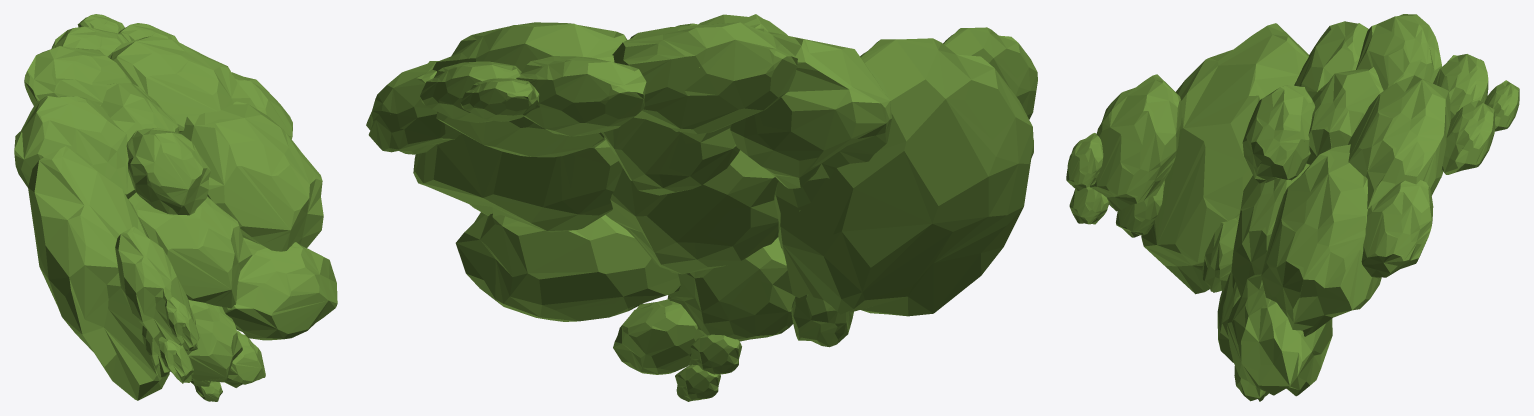
The model's file is moss4.fbx.
The picture shows the model from 3 angles, left to right: view 1: azimuth 30°, elevation 25°; view 2: azimuth 150°, elevation 25°; view 3: azimuth 270°, elevation 25°; orthographic projection. The views are drawn at different scales.
Parts seen in each view (by area): view 1: Group63459.050, Moss_G2, Group63459.058, Group63459.052, Group63459.063, Group63459.051, Group63459.053, Group63459.055, Group63459.064, Group63459.056, Group63459.054, Group63459.065 (+8 smaller); view 2: Group63459.050, Group63459.058, Group63459.051, Group63459.064, Moss_G2, Group63459.052, Group63459.063, Group63459.056, Group63459.065, Group63459.054, Group63459.070, Group63459.059 (+7 smaller); view 3: Group63459.050, Moss_G2, Group63459.063, Group63459.055, Group63459.058, Group63459.053, Group63459.070, Group63459.064, Group63459.054, Group63459.052, Group63459.051, Group63459.071 (+8 smaller).
Part boxes in pixels (bbox=[...]): Group63459.050: bbox=[28, 146, 169, 400]; Moss_G2: bbox=[179, 101, 323, 251]; Group63459.058: bbox=[222, 237, 337, 340]; Group63459.052: bbox=[128, 192, 252, 308]; Group63459.063: bbox=[107, 36, 257, 132]; Group63459.051: bbox=[14, 96, 135, 199]; Group63459.053: bbox=[126, 127, 210, 215]; Group63459.055: bbox=[115, 226, 193, 345]; Group63459.064: bbox=[24, 46, 132, 105]; Group63459.056: bbox=[188, 299, 242, 382]; Group63459.054: bbox=[100, 83, 179, 141]; Group63459.065: bbox=[51, 26, 127, 56]; Group63459.050: bbox=[774, 38, 1033, 316]; Group63459.058: bbox=[455, 212, 680, 321]; Group63459.051: bbox=[730, 31, 891, 188]; Group63459.064: bbox=[612, 22, 797, 134]; Moss_G2: bbox=[413, 133, 622, 232]; Group63459.052: bbox=[605, 150, 778, 274]; Group63459.063: bbox=[432, 22, 627, 157]; Group63459.056: bbox=[667, 237, 795, 341]; Group63459.065: bbox=[516, 56, 646, 136]; Group63459.054: bbox=[601, 23, 739, 195]; Group63459.070: bbox=[366, 61, 461, 154]; Group63459.059: bbox=[613, 299, 702, 374]; Group63459.050: bbox=[1141, 23, 1308, 294]; Moss_G2: bbox=[1261, 144, 1381, 336]; Group63459.063: bbox=[1348, 72, 1450, 209]; Group63459.055: bbox=[1090, 74, 1181, 211]; Group63459.058: bbox=[1226, 274, 1332, 396]; Group63459.053: bbox=[1242, 85, 1315, 183]; Group63459.070: bbox=[1361, 180, 1433, 278]; Group63459.064: bbox=[1356, 14, 1442, 90]; Group63459.054: bbox=[1306, 67, 1383, 164]; Group63459.052: bbox=[1231, 163, 1309, 295]; Group63459.051: bbox=[1294, 21, 1368, 98]; Group63459.071: bbox=[1442, 98, 1495, 174].
Size of the model in its own units: 1302 by 1201 by 1486.
